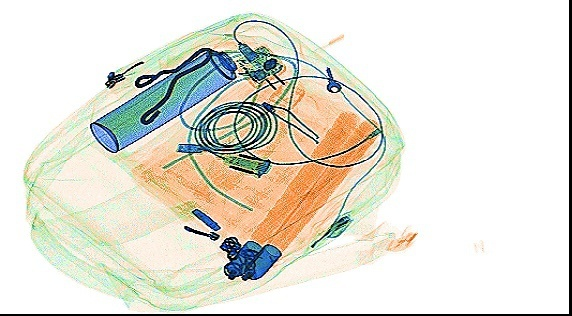pressure: (88, 46, 239, 156)
slingshot: (134, 44, 212, 125)
